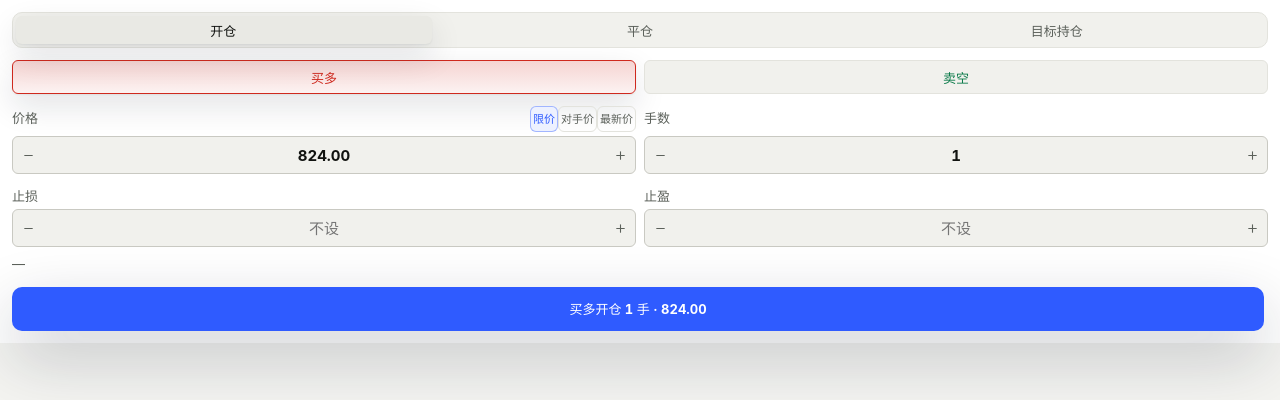
TradeTicket 手数 / 委托价 / 目标持仓的输入校验（#789） › 手数 0 原样留着、就地说明原因并禁用确认
Replace the text in the number field named "模拟委托手数" with "0": x=956, y=155 [675,144,1237,166]
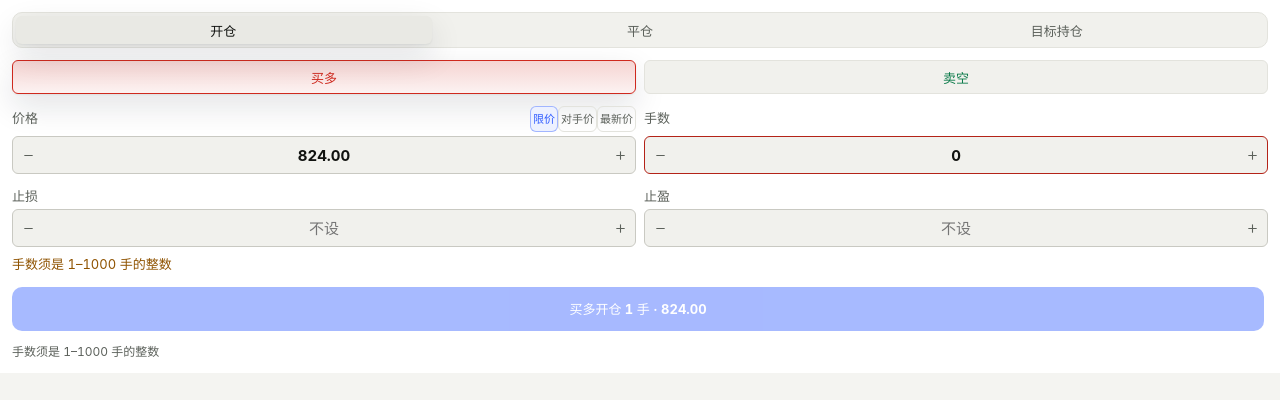
Now the message with test id "ticket-estimate" reads "手数须是 1–1000 手的整数", box [12,256,172,272]
Now the button "买多开仓 1 手 · 824.00" is disabled, box [12,286,1264,330]
// 加一从最后一个合法手数走，框里换成新值
Click the button named "手数加一": x=1252, y=155 [1237,137,1267,173]
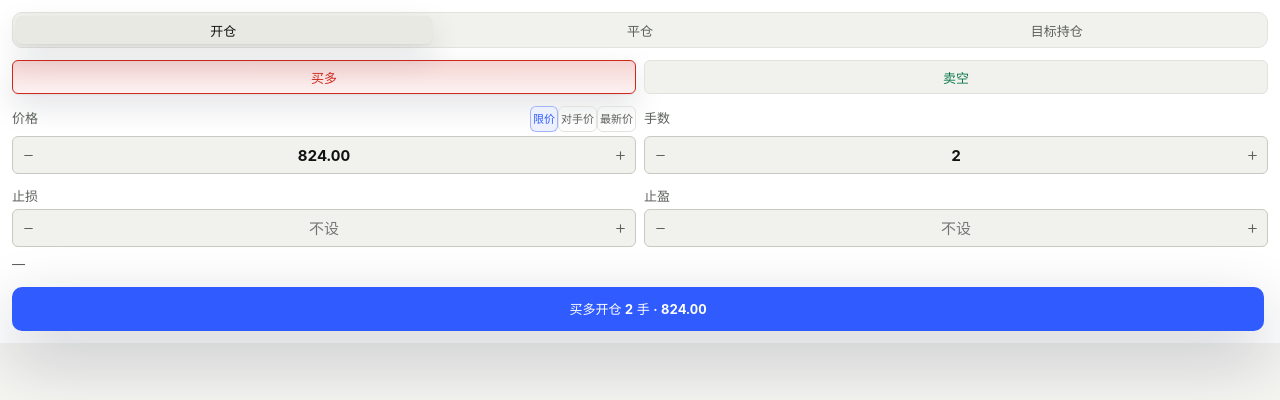
Now the number field named "模拟委托手数" holds "2", box [675,144,1237,166]
